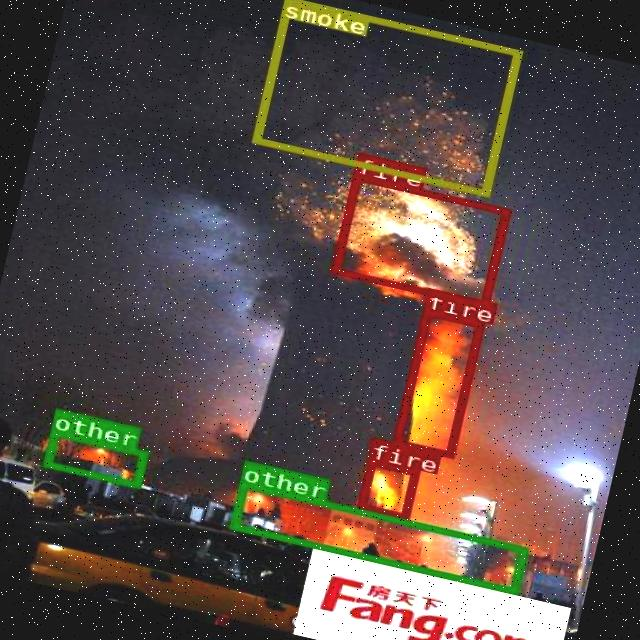fire: (328, 172, 510, 308), (392, 307, 484, 457), (354, 456, 418, 518)
smoke: (249, 0, 520, 196)
